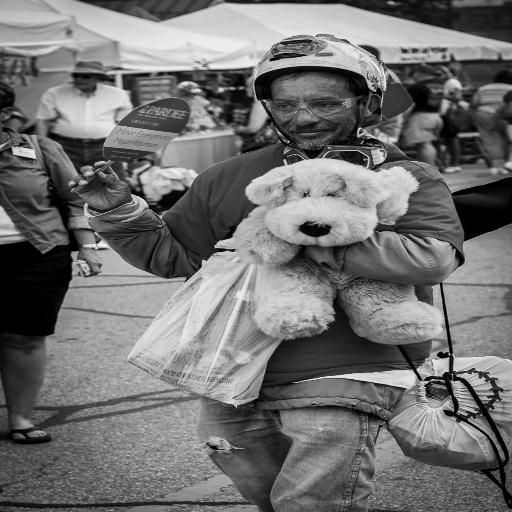hand: (65, 158, 135, 203), (74, 250, 103, 277)
